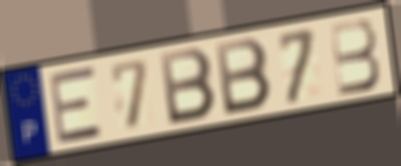7: (277, 25, 318, 106), (109, 57, 151, 132)
B: (212, 35, 274, 119), (157, 45, 219, 129), (327, 16, 383, 99)
E: (46, 63, 106, 147)
